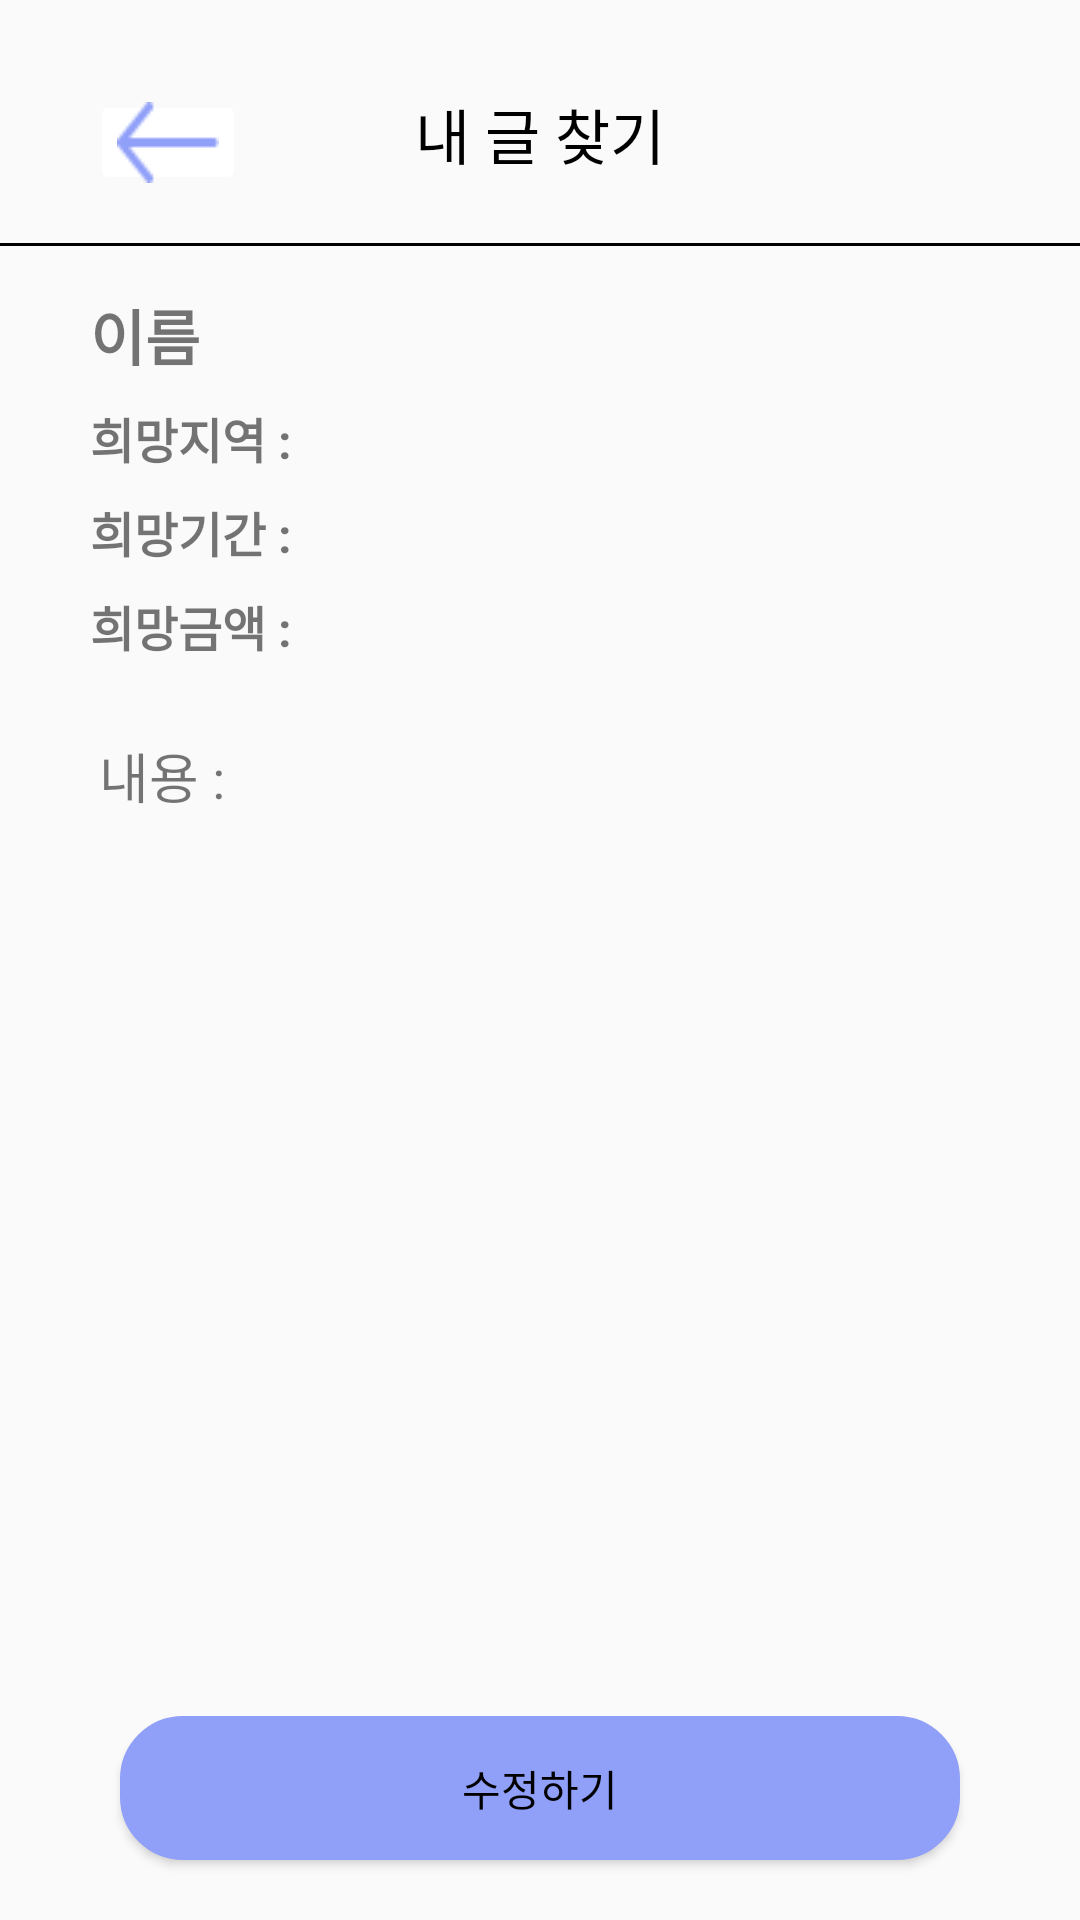

Named icons in this screenshot (1080px×1920px) and their centers, [x,y]:
arrow left: [168,142]
